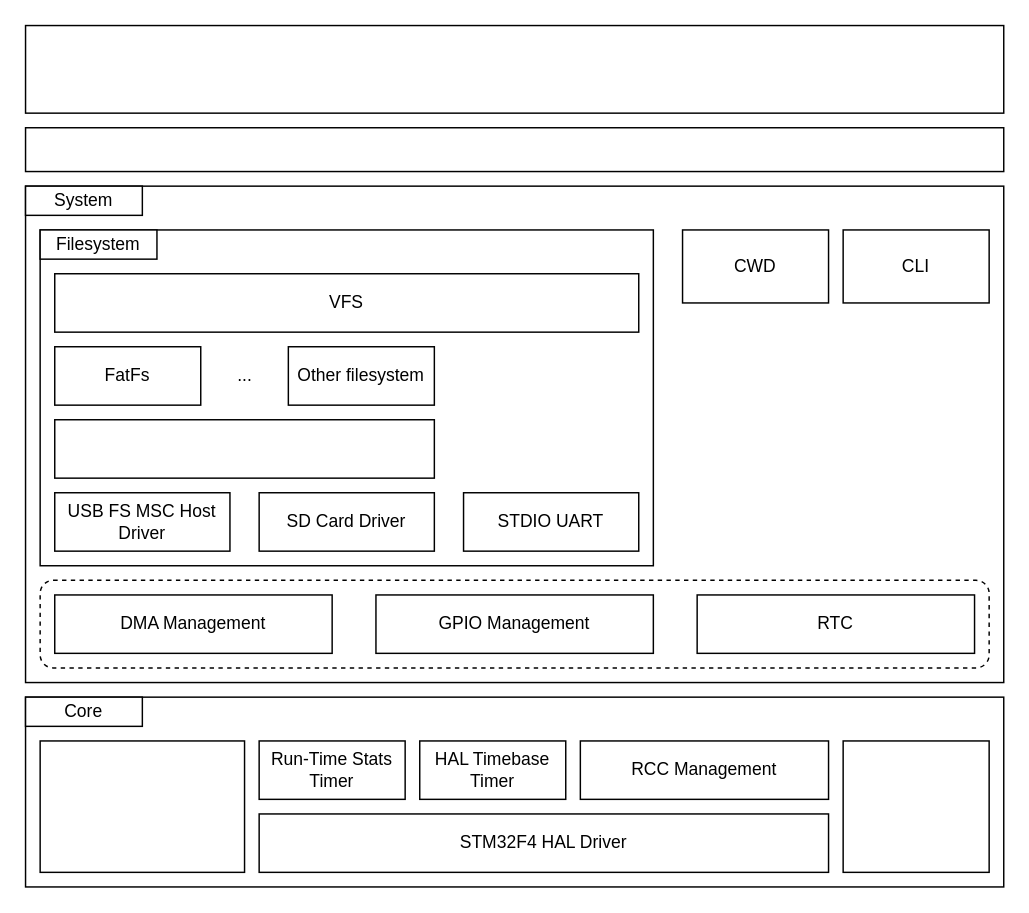
Image size: 1029x913. Some labels were removed from this diagram. The shapes that lost their labels are listed below. From the top down, each one's centre as x and y in pixels, then its label:
At point (514, 68): "Application".
At point (514, 149): "newlib syscalls".
At point (243, 448): "MTD".
At point (142, 805): "FreeRTOS".
At point (915, 805): "Utilities".
